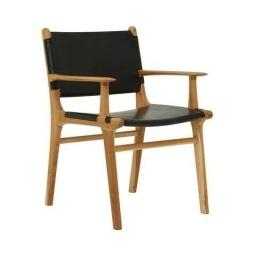Chair: (42, 25, 212, 232)
